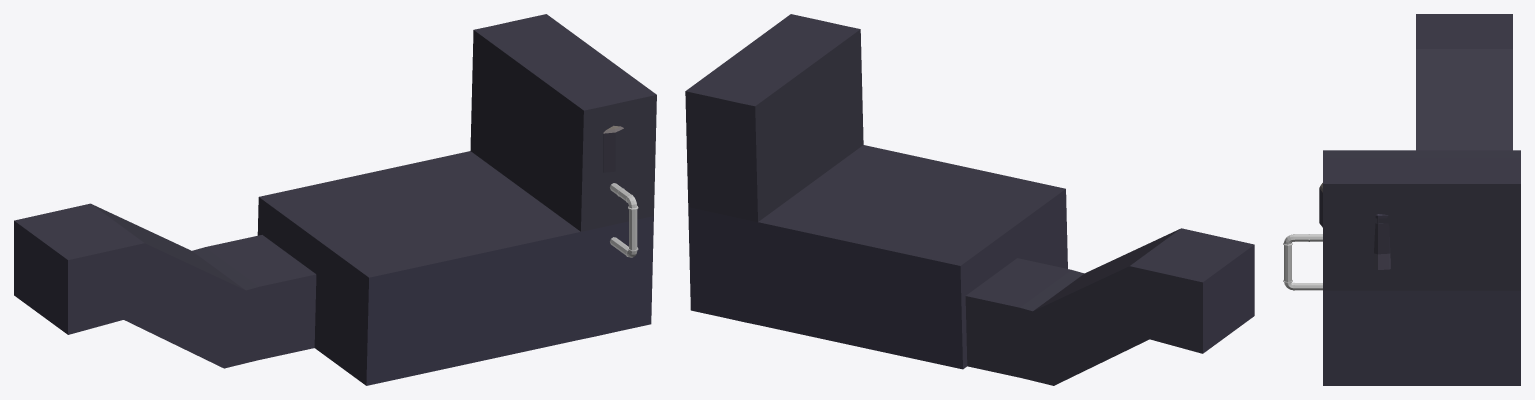
Rendered from INT_FishPoolery.fbx.
3 views of the same model, side by side, from view 1: azimuth 30°, elevation 25°; view 2: azimuth 150°, elevation 25°; view 3: azimuth 270°, elevation 25° (orthographic). The views are drawn at different scales.
Visible parts, largest first — view 1: FishPooleryCave, Pipes.050, WaterTanks.001; view 2: FishPooleryCave; view 3: FishPooleryCave, Pipes.050, WaterTanks.
Boxes of the visible parts, <box> form: FishPooleryCave: <box>14,14,656,385</box>; Pipes.050: <box>610,183,638,257</box>; WaterTanks.001: <box>603,125,623,172</box>; FishPooleryCave: <box>685,14,1254,385</box>; FishPooleryCave: <box>1323,14,1520,385</box>; Pipes.050: <box>1283,234,1322,290</box>; WaterTanks: <box>1373,214,1390,269</box>.
Size of the model in its own units: 8054 by 3295 by 3445.
